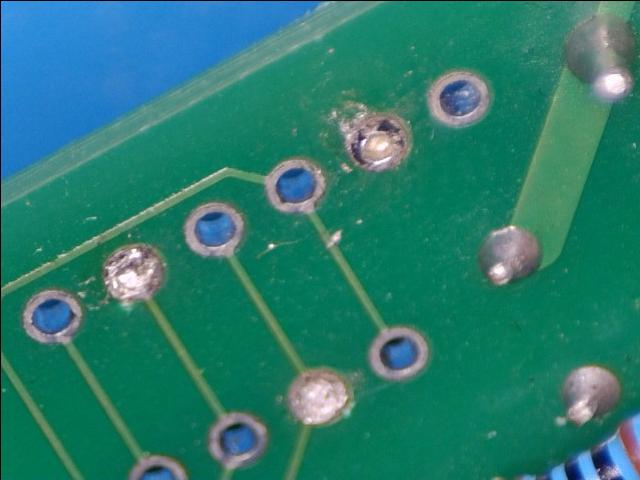Dry_joint: (350, 114, 411, 171), (103, 246, 164, 302), (291, 370, 348, 426)
